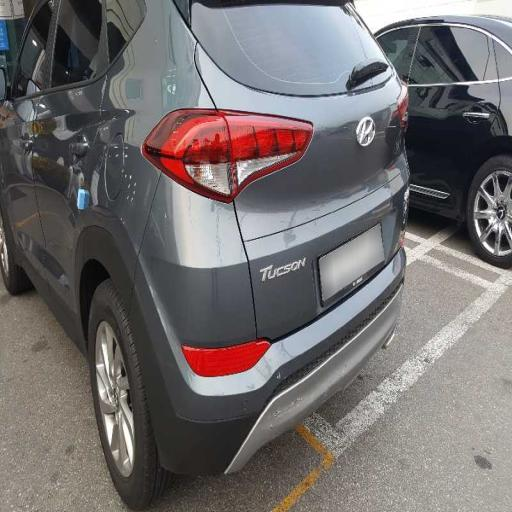dent: (170, 66, 422, 235)
scratch: (63, 124, 137, 234)
